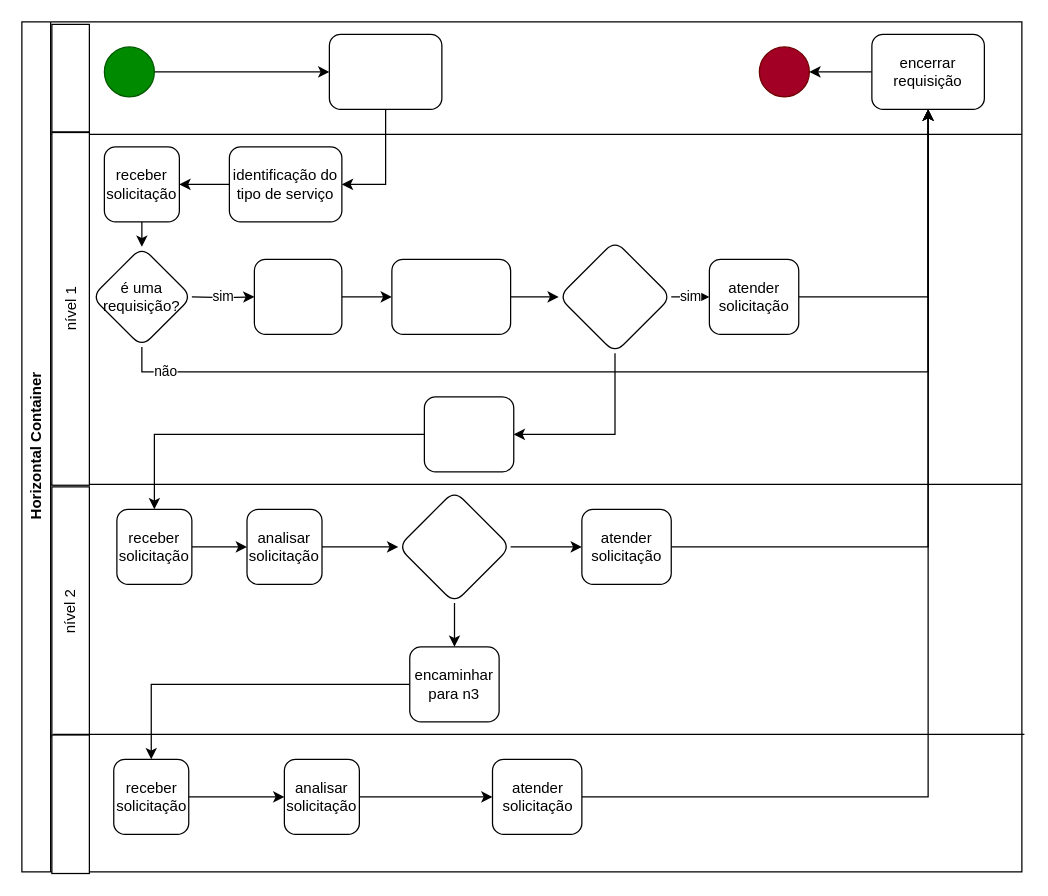
Some shapes in this 1048 by 896 pixel diagram are drawn without their labels. Here are the shapes that lost their labels. From the top down, the centre of each, then its label:
pixel 70 77: cliente
pixel 385 71: solicitação de serviço
pixel 297 296: registrar atendimento
pixel 451 296: consultar base de conhecimento
pixel 614 296: é possível realiza no n1?
pixel 468 434: encaminhar para n2
pixel 454 546: é possível realizar no n2?
pixel 70 804: nível 3
